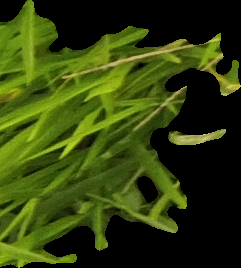grass: (1, 1, 239, 267)
